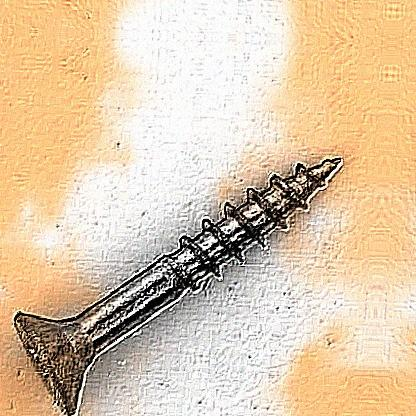metal: (12, 154, 344, 416)
